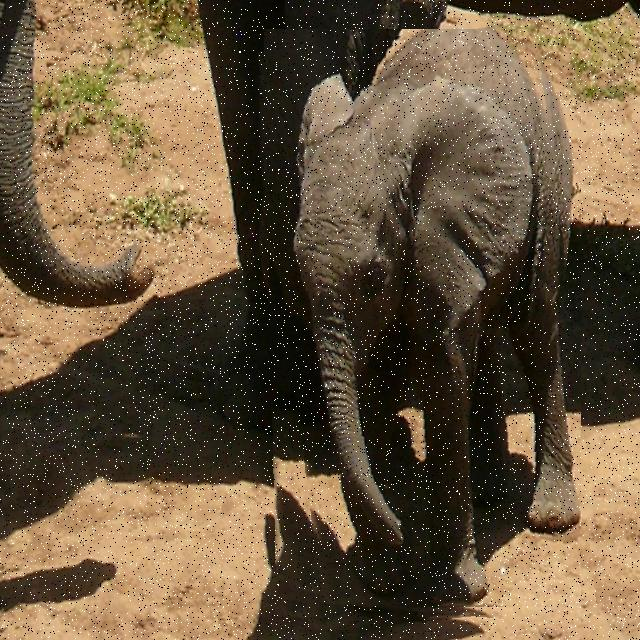elephant: (263, 29, 581, 627)
